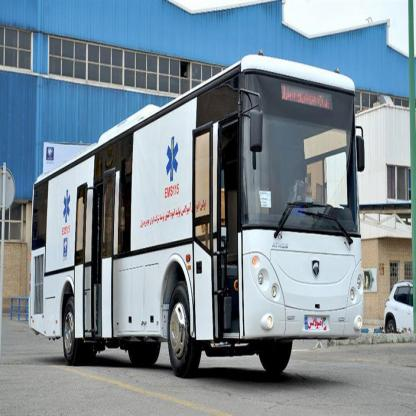Bus: (31, 56, 369, 385)
Car: (381, 268, 416, 338)
